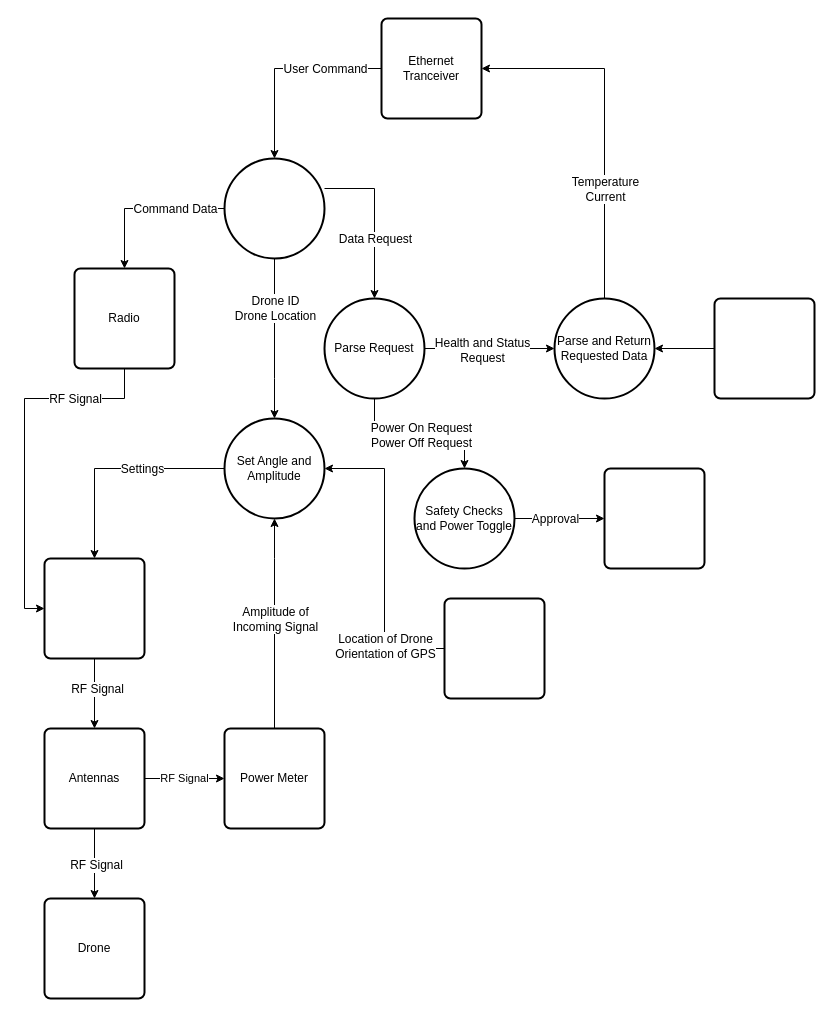
The diagram is 833 pixels wide and 1016 high, and some of its shapes have lost their labels. Each missing label, with the centre of its shape:
"Magnetometer and GPS" belongs at point 494,648.
"Phase Shifter and Attenuators" belongs at point 94,608.
"Power Board" belongs at point 654,518.
"Strip and Parse Header" belongs at point 274,208.
"Temperature Sensor/Current Sensor" belongs at point 764,348.
